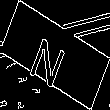N_NE: (33, 23, 77, 87)
